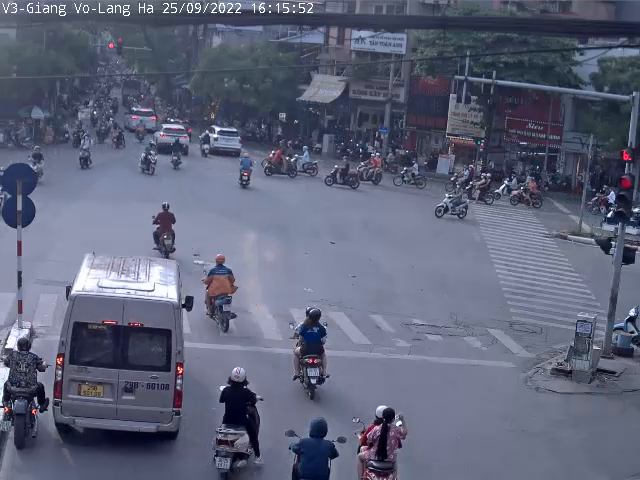người trên xe: (203, 367, 265, 478), (0, 337, 53, 454), (345, 401, 415, 480), (281, 406, 351, 480), (289, 299, 332, 403), (197, 256, 245, 336), (139, 199, 192, 261), (229, 152, 261, 194), (190, 126, 217, 159), (164, 135, 188, 171)
